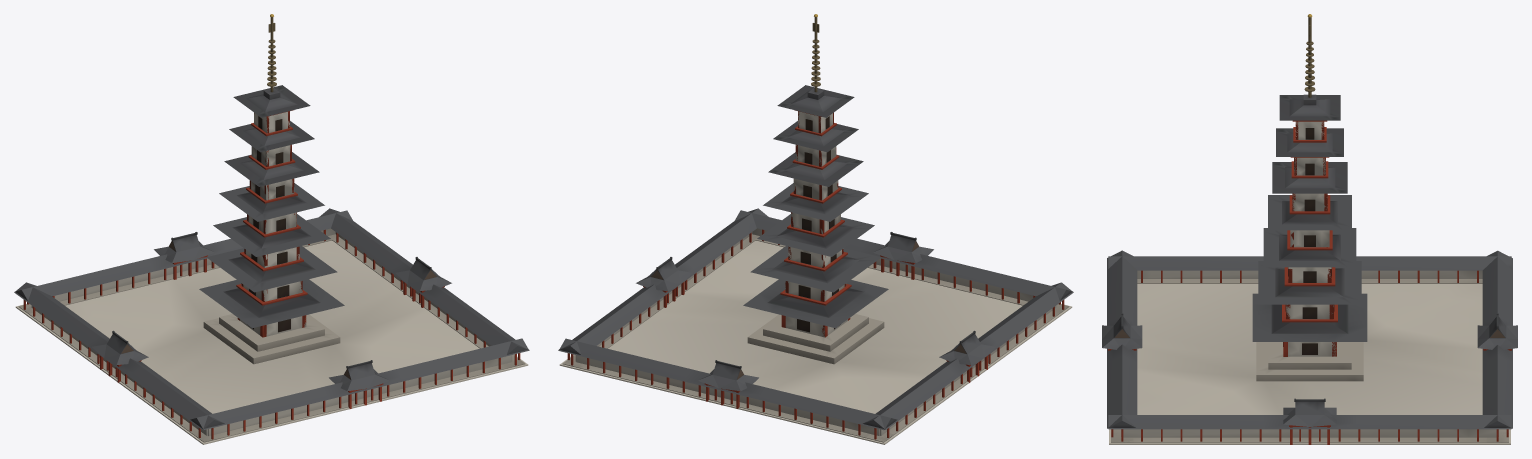
Rendered from todaiji-pagoda.glb.
3 views of the same model, side by side, from view 1: azimuth 30°, elevation 25°; view 2: azimuth 150°, elevation 25°; view 3: azimuth 270°, elevation 25° (orthographic). The views are drawn at different scales.
Parts seen in each view (by area): view 1: p0_grounds, p1_halls, p2_pagoda; view 2: p0_grounds, p1_halls, p2_pagoda; view 3: p0_grounds, p1_halls, p2_pagoda.
Part boxes in pixels (x1=…): p0_grounds: x1=15, y1=240, x2=528, y2=444; p1_halls: x1=14, y1=208, x2=529, y2=442; p2_pagoda: x1=199, y1=14, x2=344, y2=351; p0_grounds: x1=559, y1=240, x2=1072, y2=444; p1_halls: x1=558, y1=208, x2=1073, y2=442; p2_pagoda: x1=743, y1=14, x2=888, y2=351; p0_grounds: x1=1109, y1=284, x2=1510, y2=444; p1_halls: x1=1102, y1=250, x2=1517, y2=444; p2_pagoda: x1=1252, y1=14, x2=1367, y2=369.
Size of the model in its own units: 93 by 85.39 by 93.
